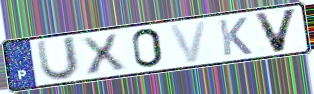0: (130, 27, 166, 70)
K: (216, 16, 254, 58)
U: (34, 35, 81, 83)
V: (251, 6, 300, 54), (167, 19, 210, 65)
X: (77, 32, 129, 76)
